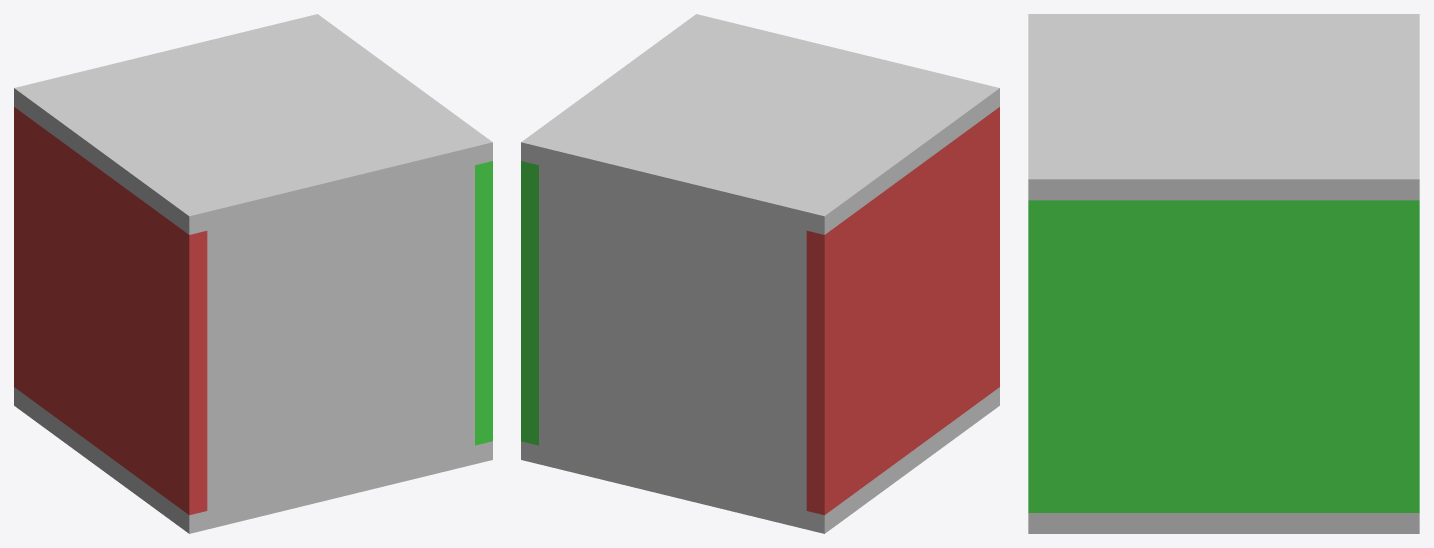
The model's file is gi_cornell.glb.
3 renders of one model, left to right at view 1: azimuth 30°, elevation 25°; view 2: azimuth 150°, elevation 25°; view 3: azimuth 270°, elevation 25°, orthographic. The views are drawn at different scales.
Parts seen in each view (by area): view 1: Cornell Wall +Z, Cornell Ceiling, Cornell Wall -X, Cornell Floor, Cornell Wall +X; view 2: Cornell Wall -Z, Cornell Ceiling, Cornell Wall -X, Cornell Floor, Cornell Wall +X; view 3: Cornell Wall +X, Cornell Ceiling, Cornell Floor.
Part boxes in pixels (x1=…): Cornell Wall +Z: x1=207, y1=165, x2=474, y2=510; Cornell Ceiling: x1=14, y1=14, x2=492, y2=234; Cornell Wall -X: x1=14, y1=107, x2=207, y2=515; Cornell Floor: x1=14, y1=387, x2=492, y2=533; Cornell Wall +X: x1=475, y1=161, x2=492, y2=445; Cornell Wall -Z: x1=539, y1=165, x2=806, y2=510; Cornell Ceiling: x1=521, y1=14, x2=999, y2=234; Cornell Wall -X: x1=806, y1=107, x2=999, y2=515; Cornell Floor: x1=521, y1=387, x2=999, y2=533; Cornell Wall +X: x1=521, y1=161, x2=538, y2=445; Cornell Wall +X: x1=1028, y1=200, x2=1419, y2=512; Cornell Ceiling: x1=1028, y1=14, x2=1419, y2=200; Cornell Floor: x1=1028, y1=513, x2=1419, y2=533.
Bounding box in the file's own units: 3.4 × 3.4 × 3.4.
